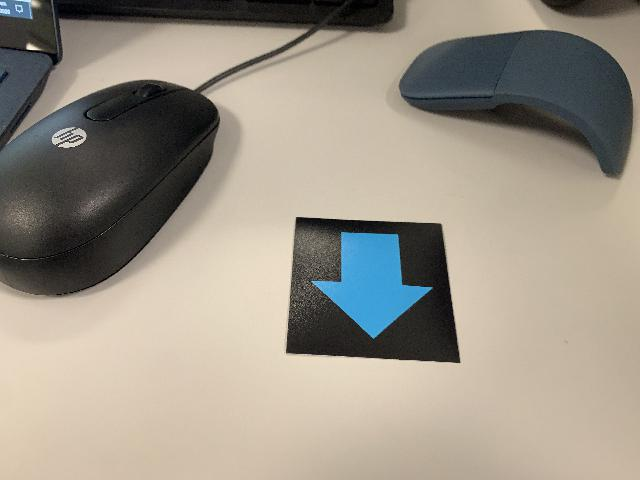down: (285, 216, 463, 367)
